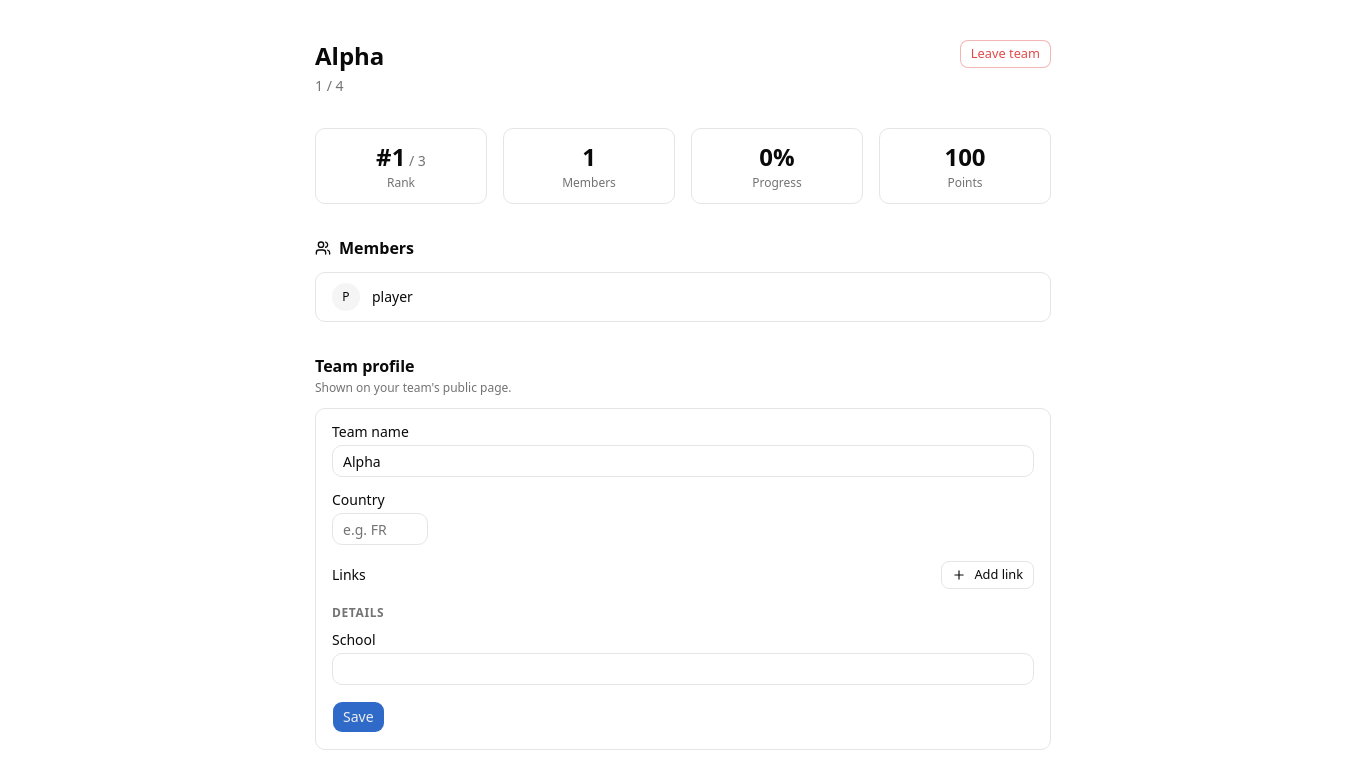
Test: loads the new team's profile after leaving one team and joining another
Expected: the field showing "Alpha" is shown, [332,445,1034,477]
Click the button "Leave team" at (1005, 54), box [960,40,1051,68]
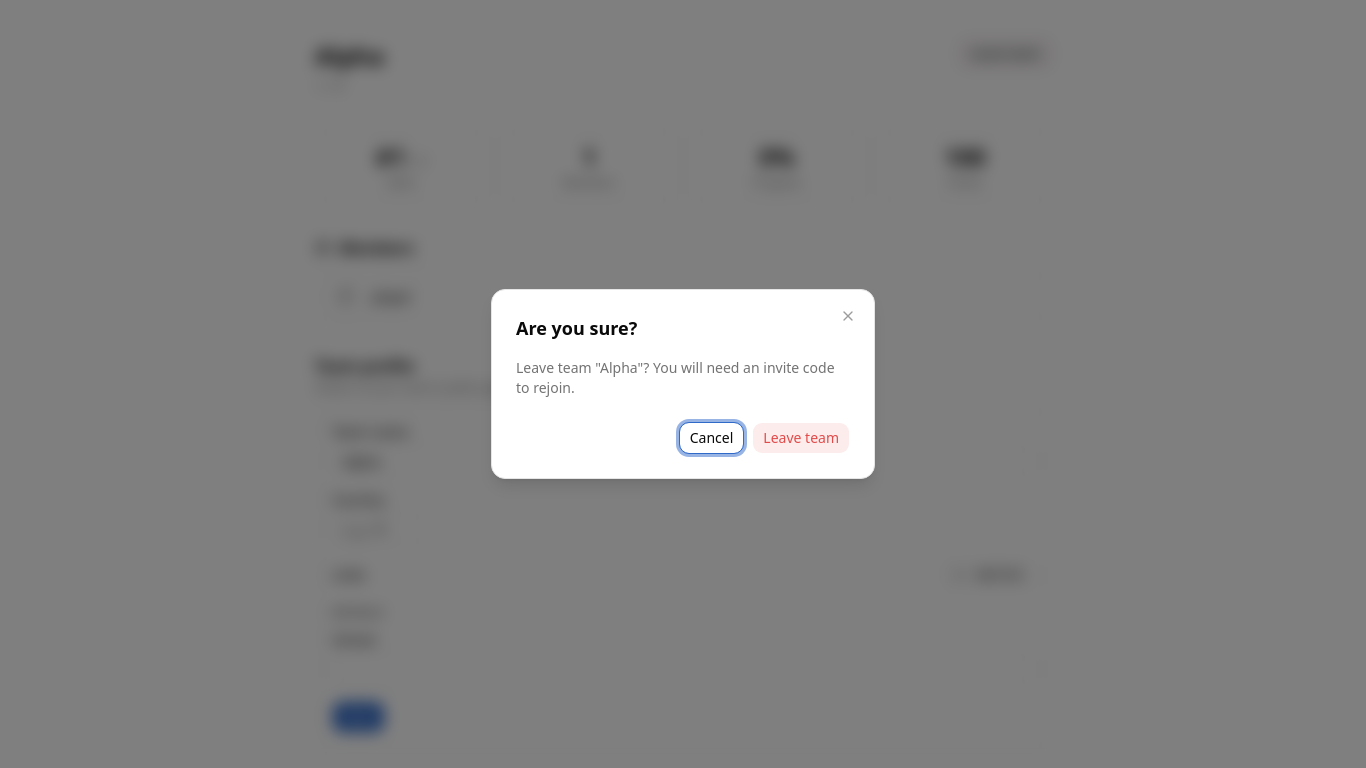
Click the button "Leave team" at (801, 438), box [752,422,850,454]
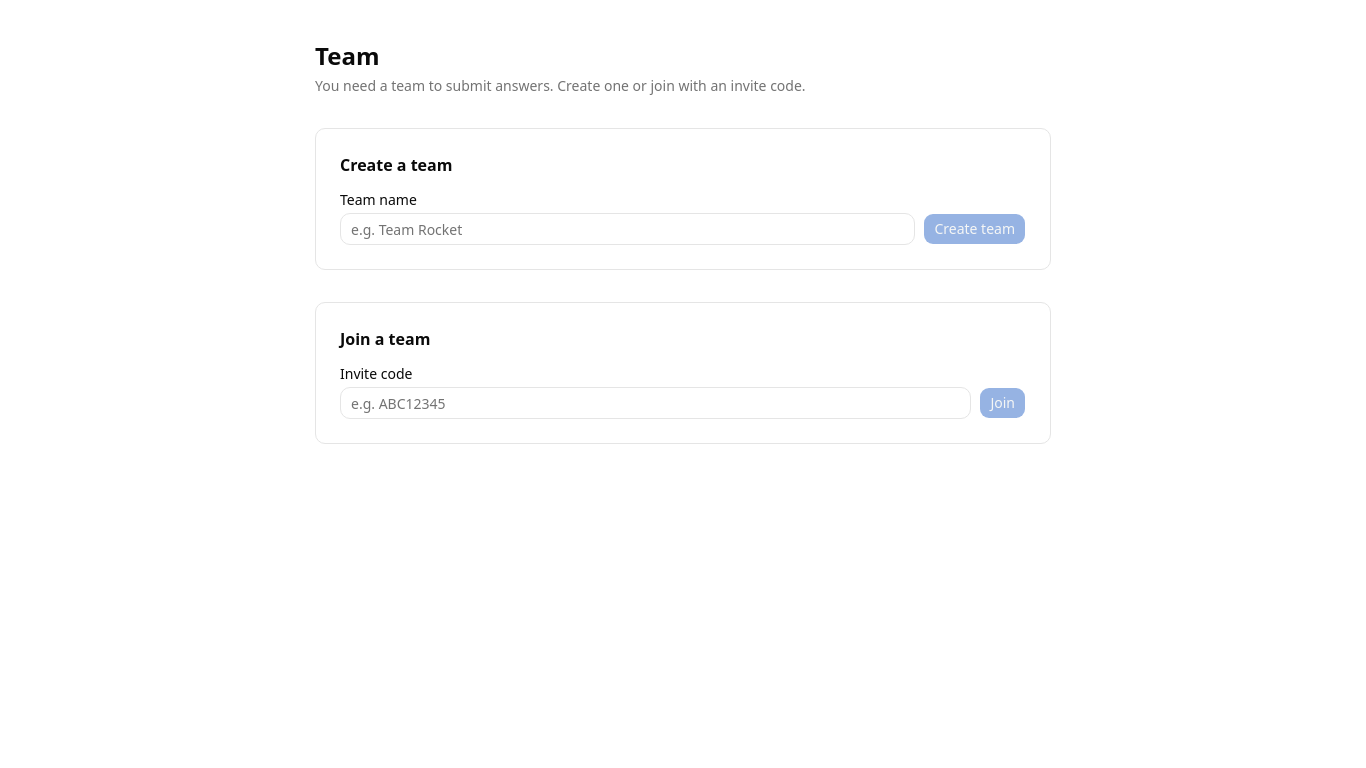
Type "BRAVO001" into the field labelled "Invite code" at (656, 403), box [340,387,971,419]
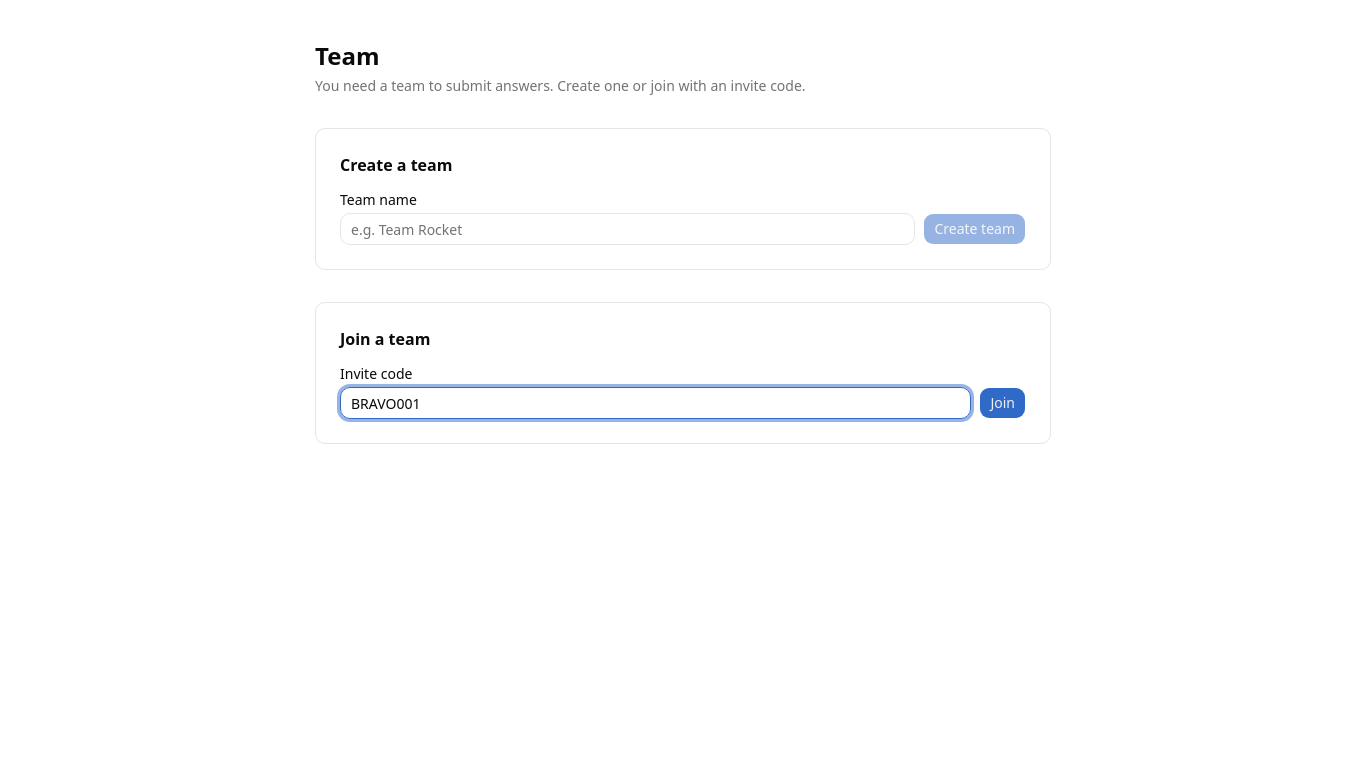
Click the button "Join" at (1003, 403), box [979,387,1026,419]
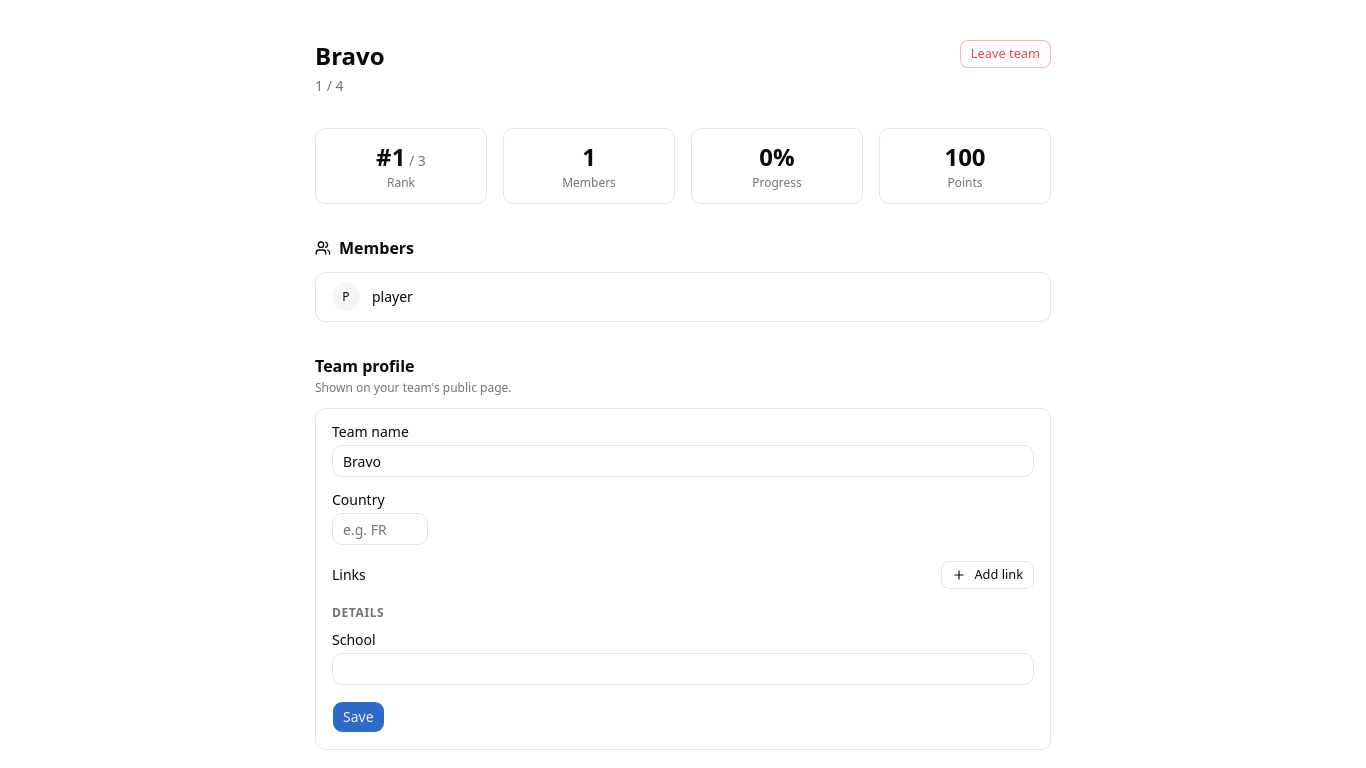
Expected: the heading showing "Alpha" is not shown
Expected: the field showing "Bravo" is shown, [332,445,1034,477]
